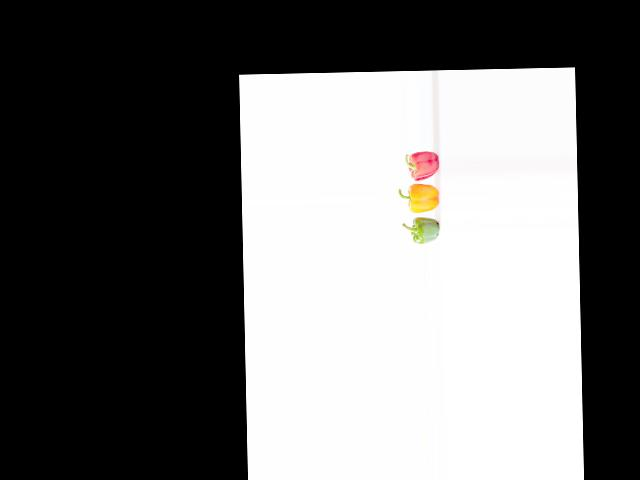bell_pepper: (397, 148, 438, 181)
